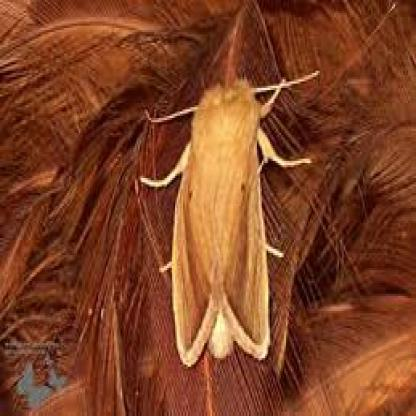stem-borer: (166, 72, 274, 372)
